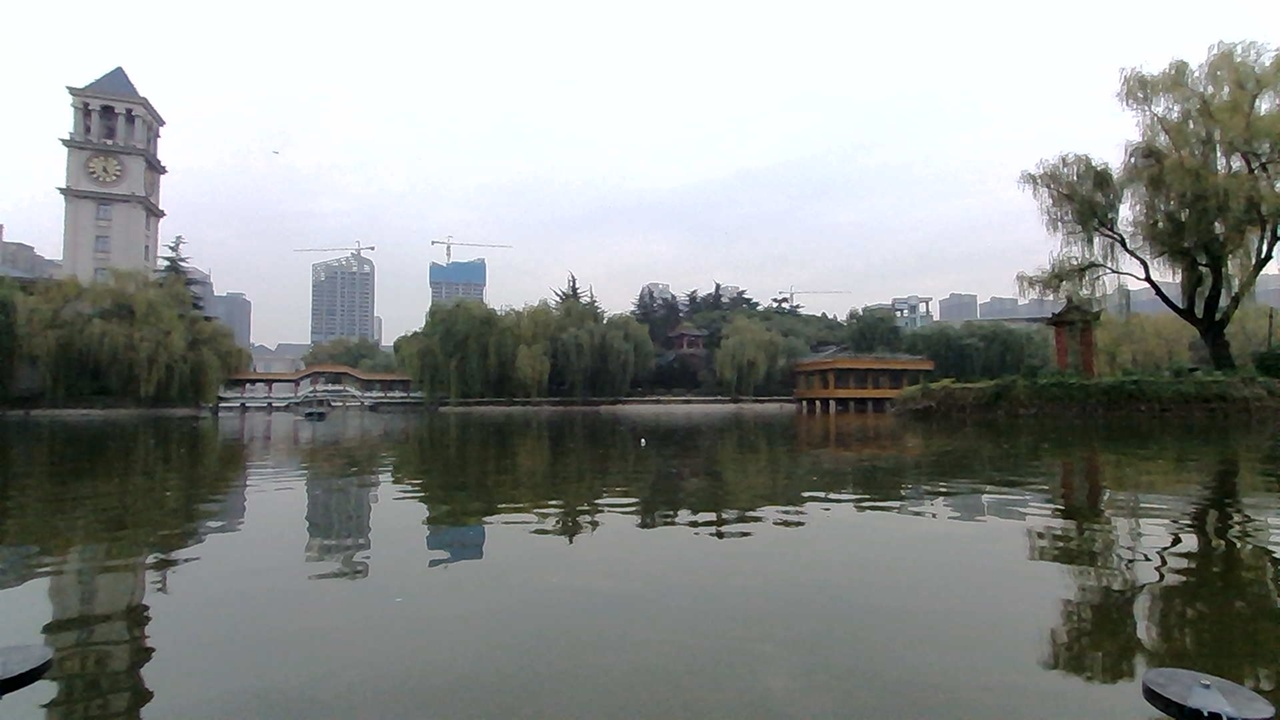bottle: (623, 425, 667, 458)
